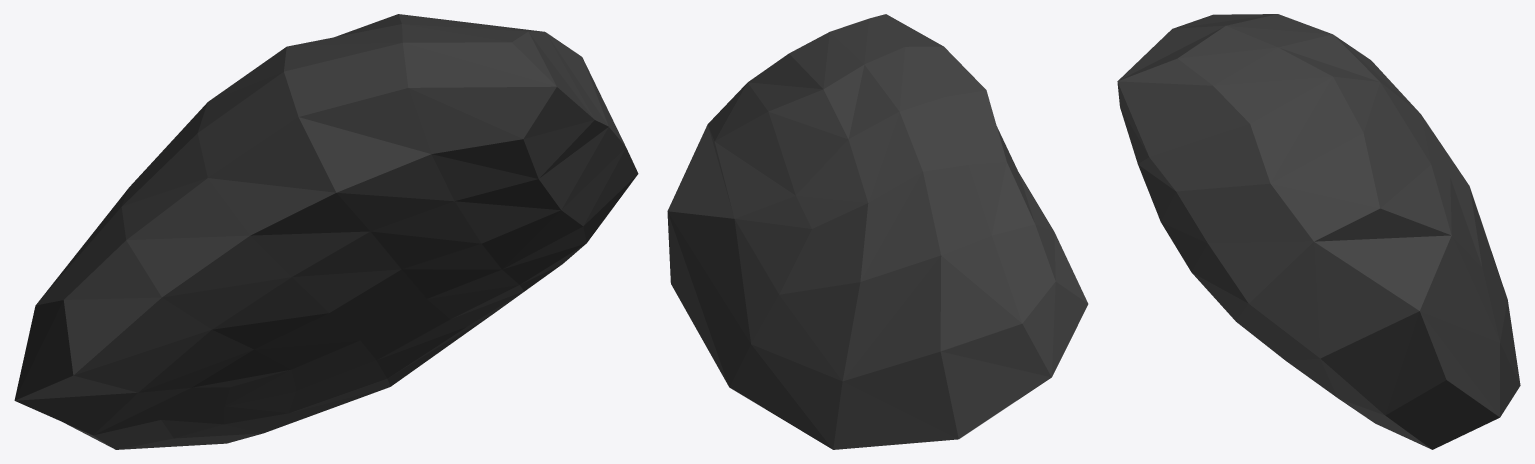
The model's file is RHL_tibia4.glb.
3 views of the same model, side by side, from view 1: azimuth 30°, elevation 25°; view 2: azimuth 150°, elevation 25°; view 3: azimuth 270°, elevation 25° (orthographic). The views are drawn at different scales.
Visible parts, largest first — view 1: RHL_tibia4; view 2: RHL_tibia4; view 3: RHL_tibia4.
Part boxes in pixels (box(x1,y1,x2,y2)): RHL_tibia4: box(14, 14, 638, 449); RHL_tibia4: box(667, 14, 1088, 449); RHL_tibia4: box(1117, 14, 1520, 449).
Bounding box in the file's own units: 5.34 × 4.44 × 3.91.
1 material, 1 textured.
